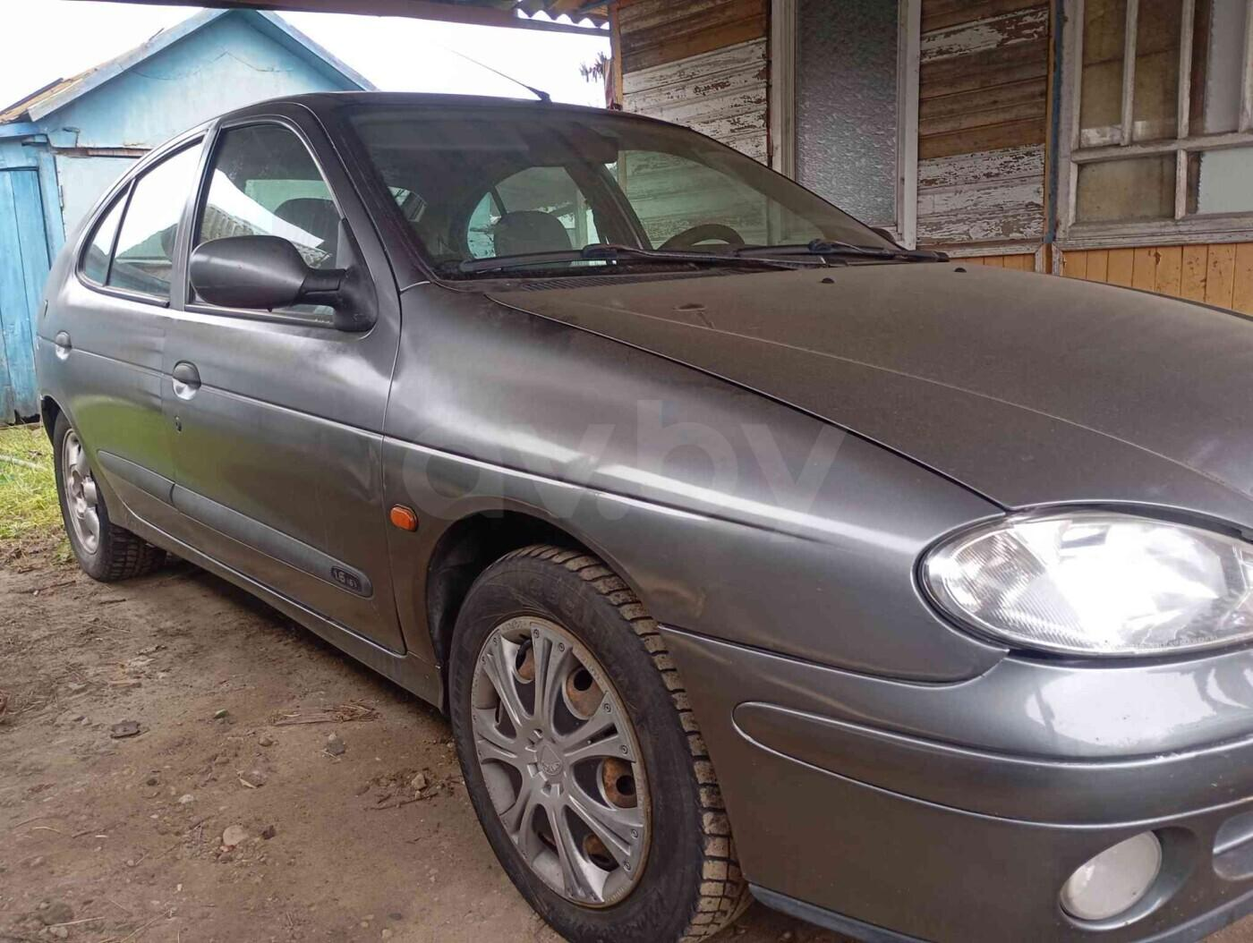Megane_1999-2003: (31, 87, 1253, 943)
